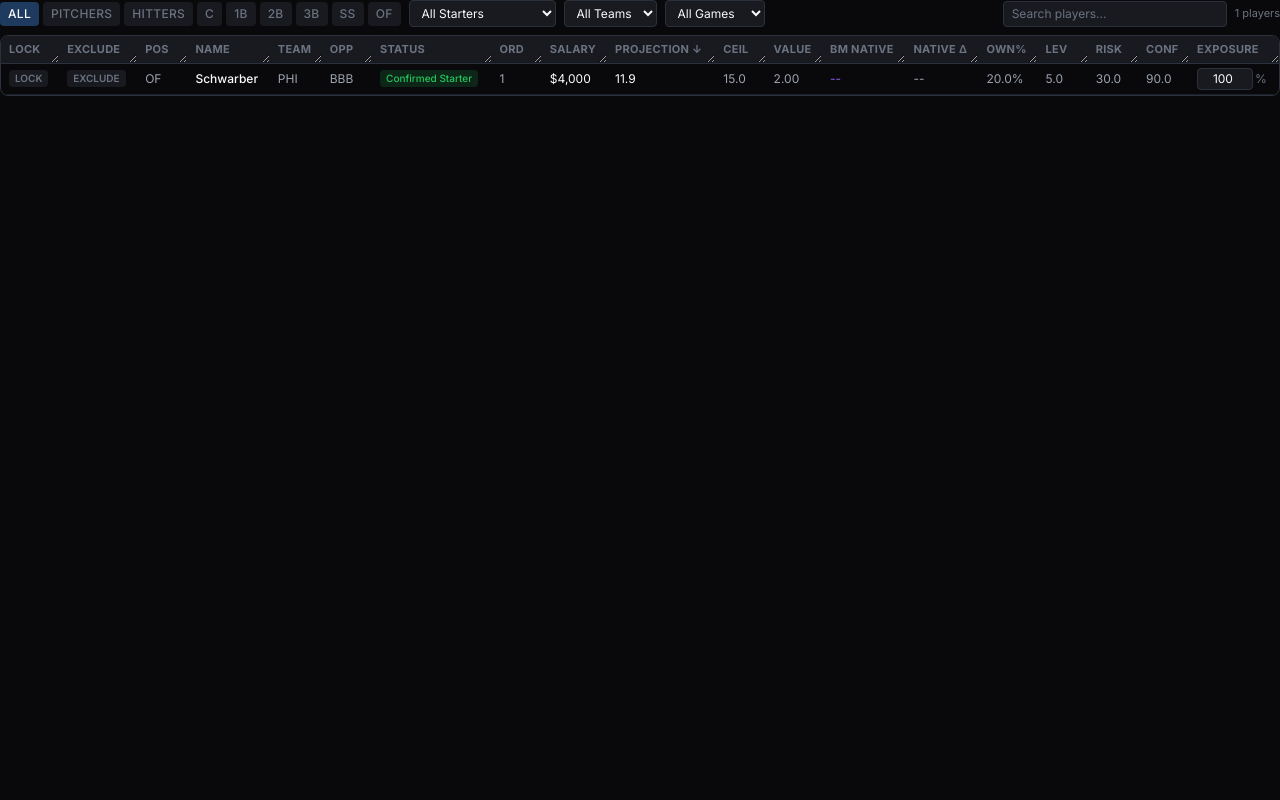
Test case: PoolTable › clicking a player name opens the detail modal with the projection comparison
Click the button "Schwarber". click: (227,79)
box: [195, 71, 258, 87]
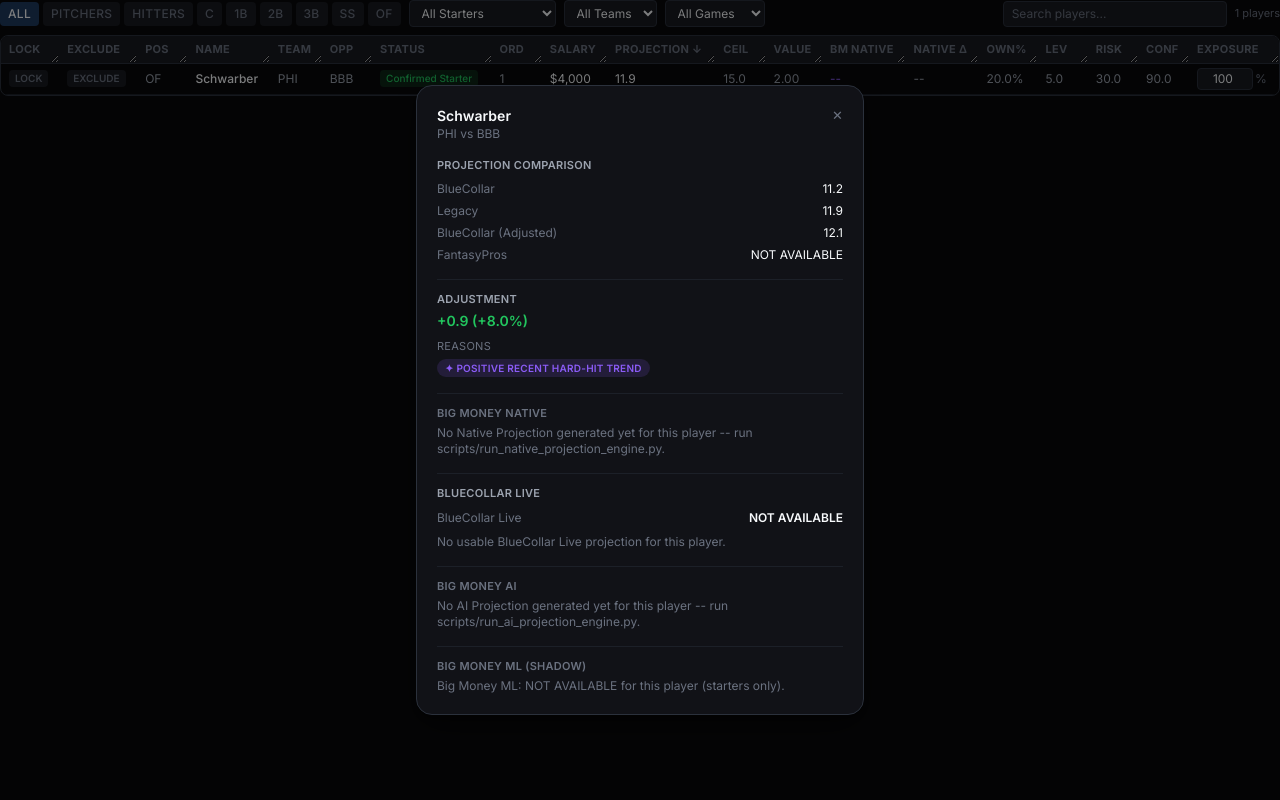
Check: the dialog is shown, box [416, 85, 864, 715]
Check: the heading "Projection Comparison" is shown, box [437, 158, 592, 172]
Check: the text "✦ positive recent hard-hit trend" is shown, box [437, 359, 650, 377]
Click the button named "Close". click: (838,115)
box: [832, 106, 843, 124]
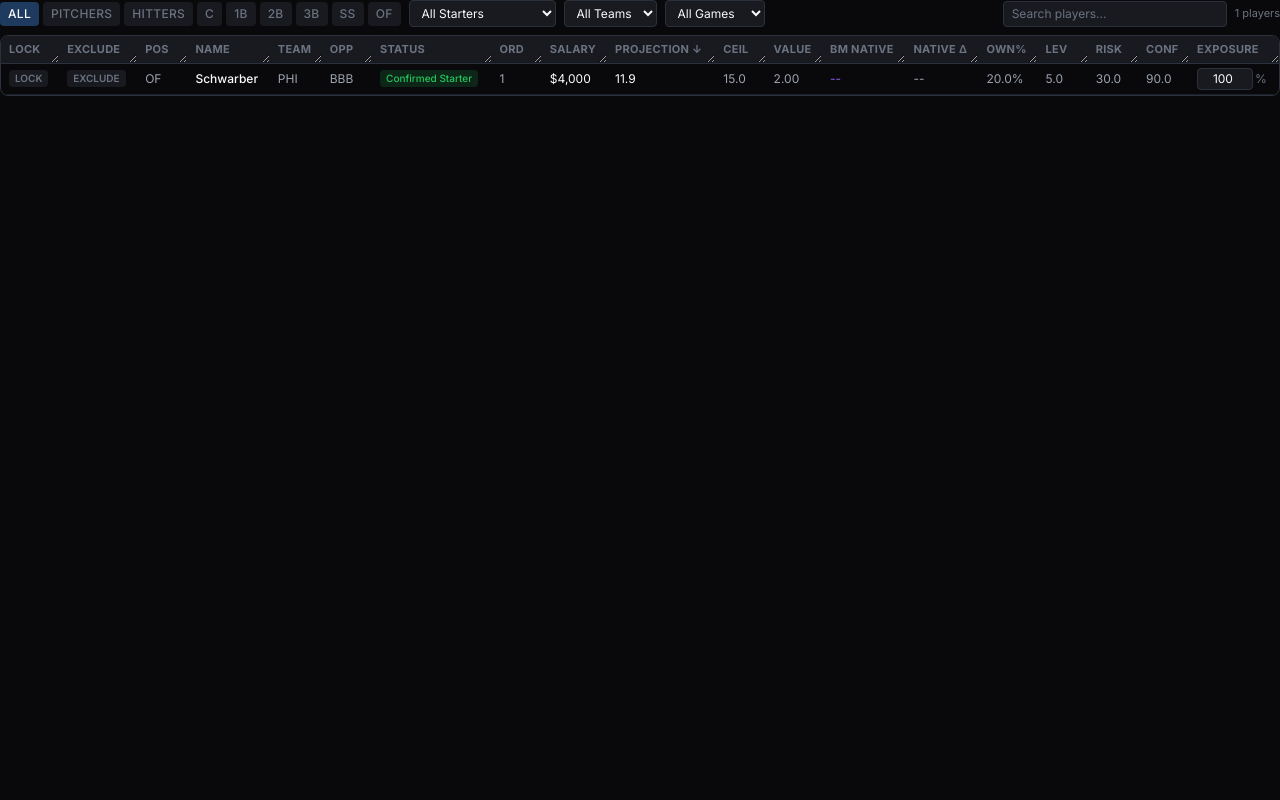
Check: the dialog is gone
